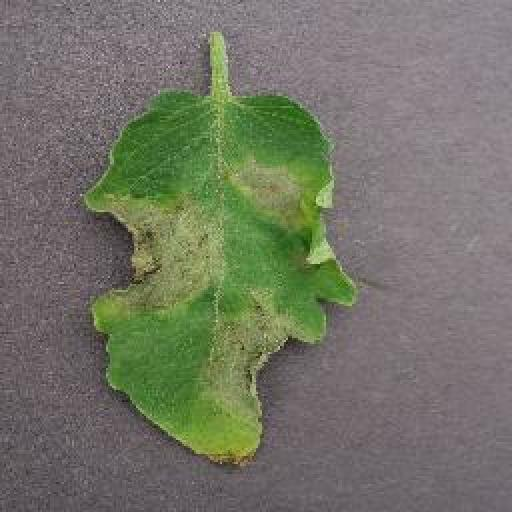Late Blight: (80, 88, 355, 473)
